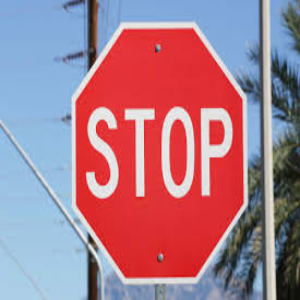STOP_SIGN: (70, 21, 248, 285)
